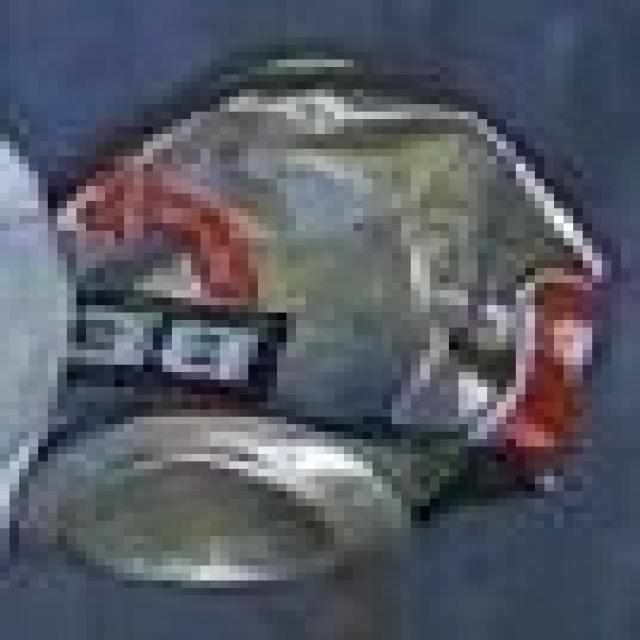litter: (22, 42, 640, 607)
